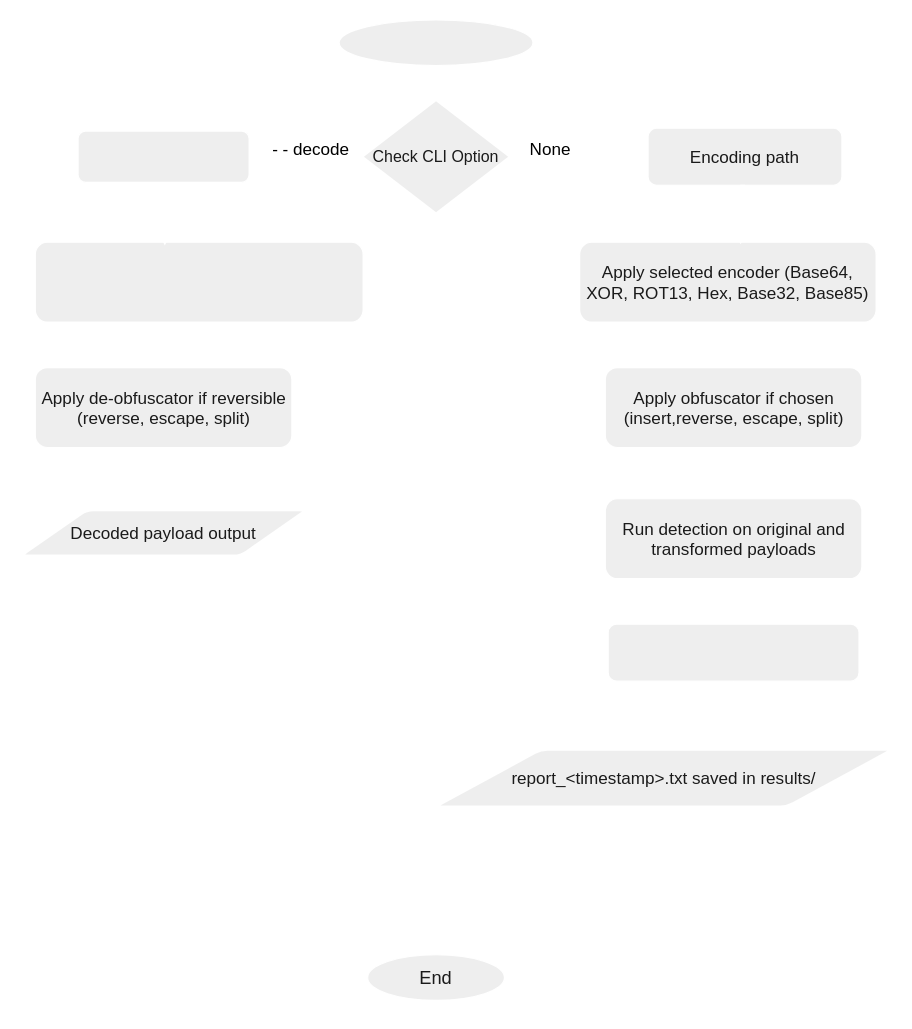
This 912x1029 diagram has some shape labels left out. The shapes that lost their labels are listed below. From the top down, each one's centre as x and y in pixels, then its label:
At pixel 435 42: "Start / Run main.py".
At pixel 163 156: "Decoding path".
At pixel 198 281: "Apply selected decoder (Base64, XOR, ROT13, Hex, Base32, Base85)".
At pixel 733 652: "Effectiveness analysis (bypassed / detected)".
